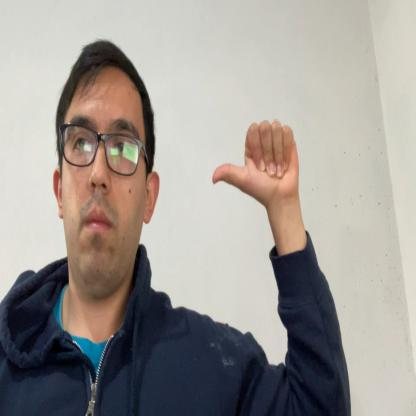A: (212, 120, 300, 204)
